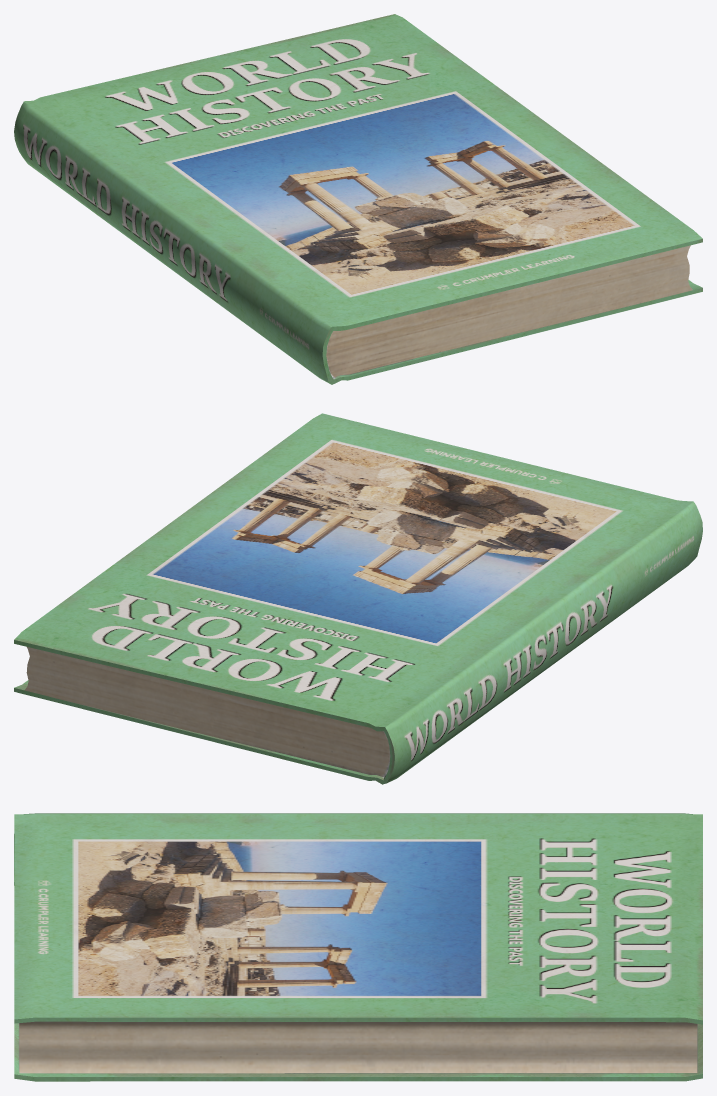
Rendered from SM_Books_02b.fbx.
3 views of the same model, one above another, from view 1: azimuth 30°, elevation 25°; view 2: azimuth 150°, elevation 25°; view 3: azimuth 270°, elevation 25° (orthographic). The views are drawn at different scales.
Parts seen in each view (by area): view 1: SM_Books_02b_LOD0; view 2: SM_Books_02b_LOD0; view 3: SM_Books_02b_LOD0.
Part boxes in pixels (x1,y1,x2,y2): SM_Books_02b_LOD0: (14, 14, 702, 384); SM_Books_02b_LOD0: (14, 413, 702, 784); SM_Books_02b_LOD0: (14, 813, 702, 1081).
Bounding box in the file's own units: 26.51 × 36.88 × 3.84.
Materials: 1 (1 with a texture image).
